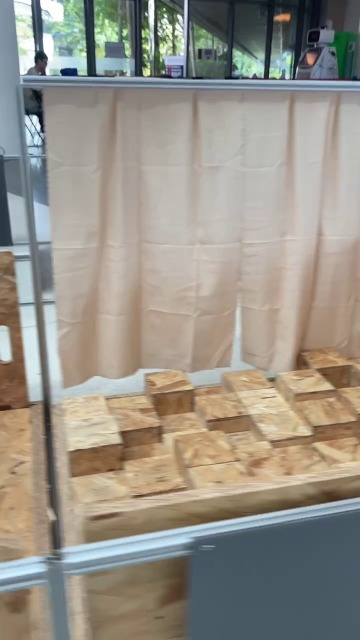curtain: (29, 77, 331, 384)
